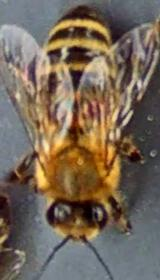varroa_mite: (76, 88, 112, 130)
